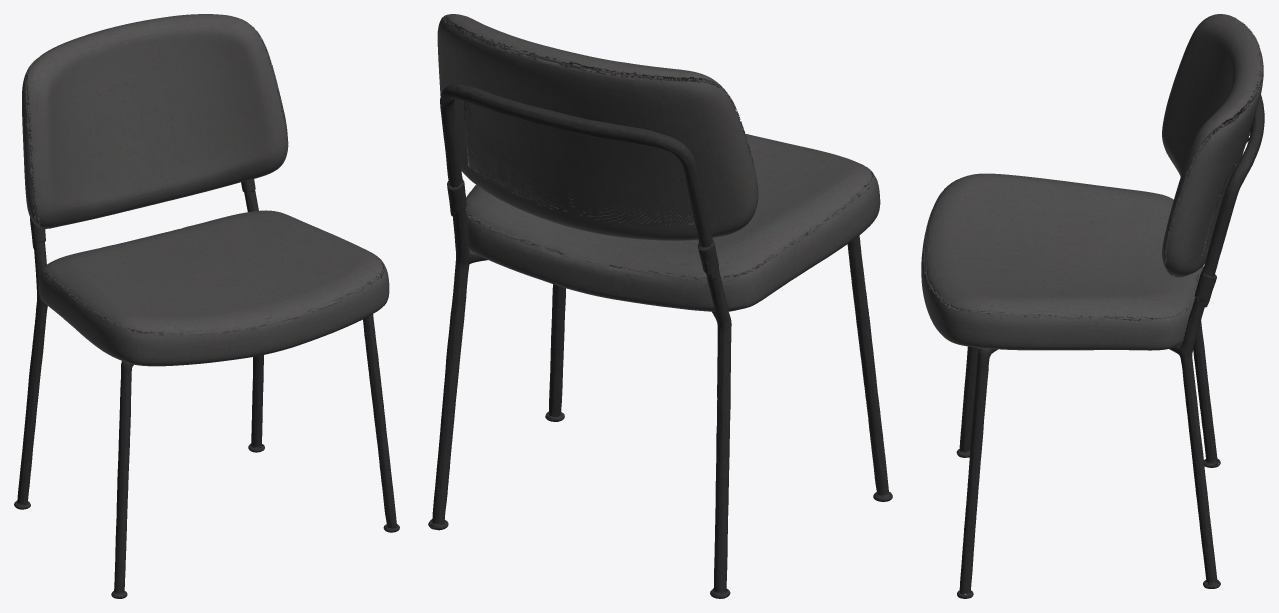
The model's file is minimalist_desk_chair.raw.glb.
3 renders of one model, left to right at view 1: azimuth 30°, elevation 25°; view 2: azimuth 150°, elevation 25°; view 3: azimuth 270°, elevation 25°, orthographic. The views are drawn at different scales.
Parts seen in each view (by area): view 1: world; view 2: world; view 3: world.
Boxes of the visible parts, box(x1,y1,x2,y2) form: world: box(14, 14, 399, 598); world: box(428, 14, 892, 598); world: box(921, 14, 1264, 598).
Bounding box in the file's own units: 0.6869 × 0.9999 × 0.6708.
1 material, 1 textured.
